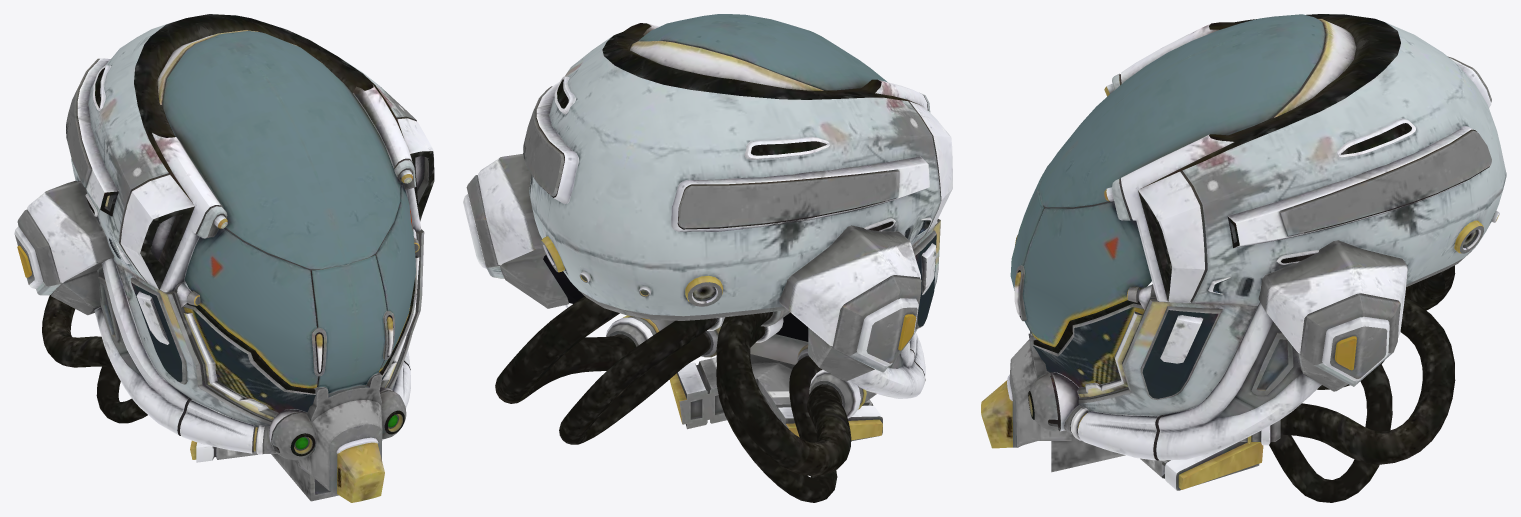
The model's file is splash-about.glb.
3 renders of one model, left to right at view 1: azimuth 30°, elevation 25°; view 2: azimuth 150°, elevation 25°; view 3: azimuth 270°, elevation 25°, orthographic. The views are drawn at different scales.
Parts seen in each view (by area): view 1: node_damagedHelmet_-6514; view 2: node_damagedHelmet_-6514; view 3: node_damagedHelmet_-6514.
Part boxes in pixels (x1,y1,x2,y2): node_damagedHelmet_-6514: (14, 14, 434, 502); node_damagedHelmet_-6514: (463, 14, 952, 502); node_damagedHelmet_-6514: (981, 14, 1506, 502).
Bounding box in the file's own units: 1.89 × 1.8 × 2.
Materials: 1 (1 with a texture image).
